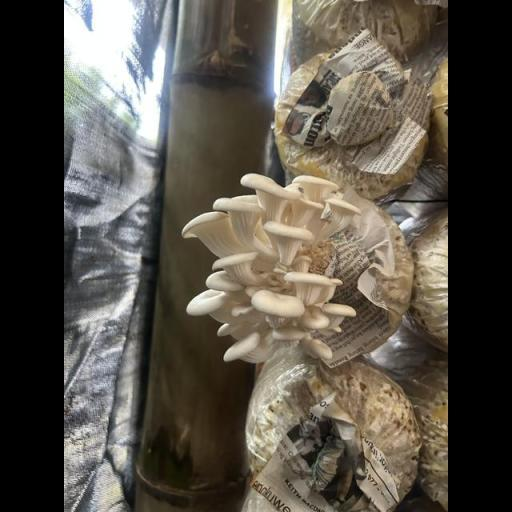White Oyster Mushroom: (176, 157, 375, 372)
